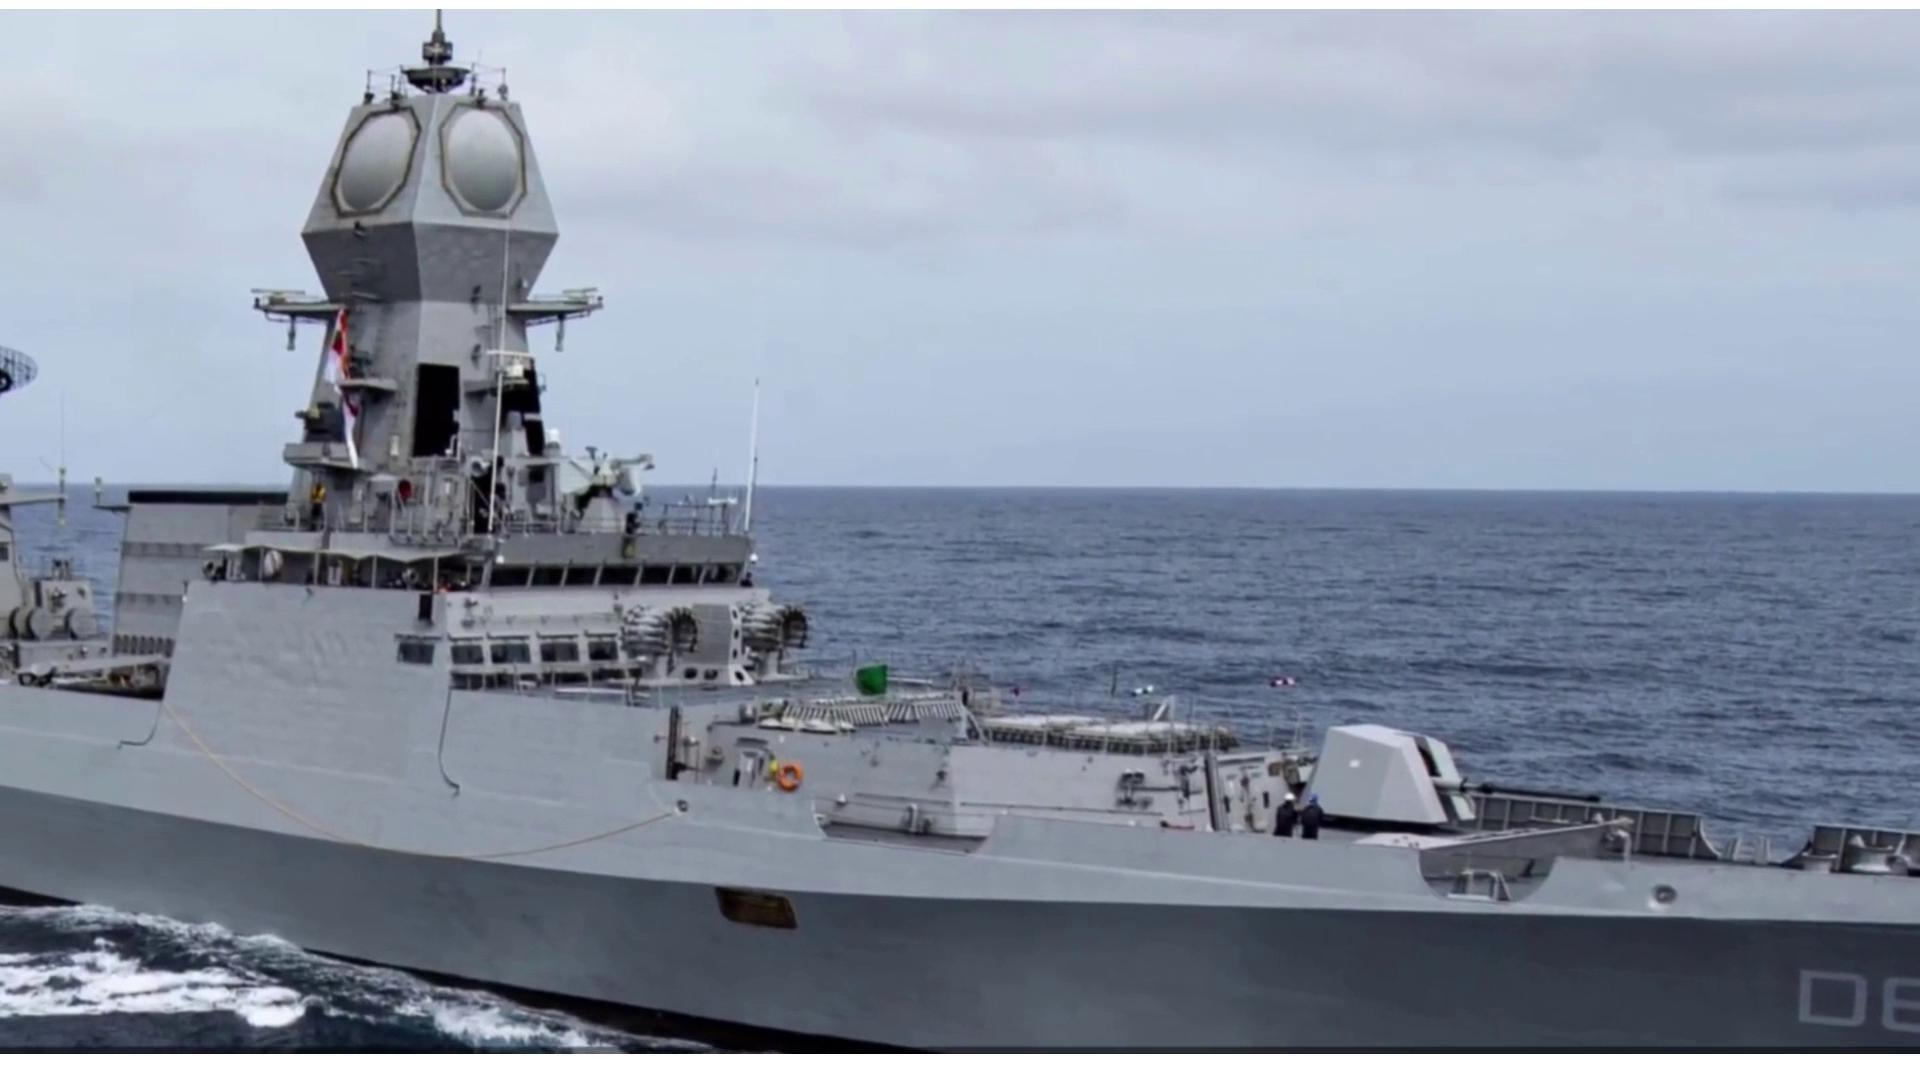OCR: (1785, 963, 1920, 1042)
